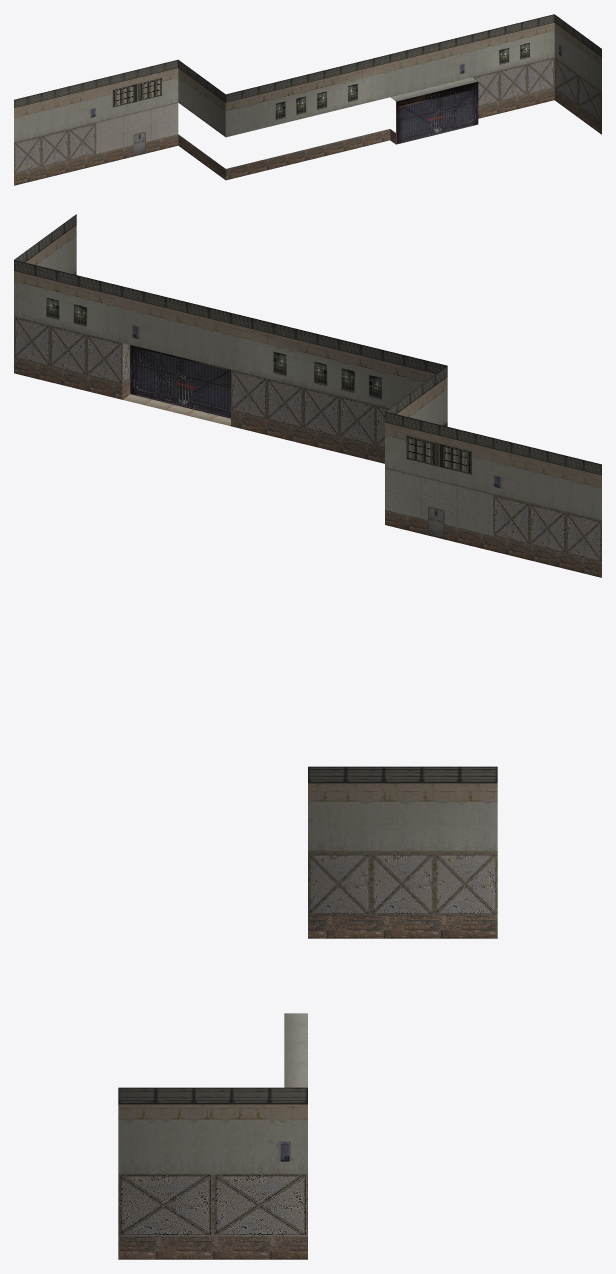
File: M11Z1_TownWall09_A.glb
3 renders of one model, top to bottom at view 1: azimuth 30°, elevation 25°; view 2: azimuth 150°, elevation 25°; view 3: azimuth 270°, elevation 25°, orthographic. The views are drawn at different scales.
Visible parts, largest first — view 1: M11Z1_TOWNWALL09_A; view 2: M11Z1_TOWNWALL09_A; view 3: M11Z1_TOWNWALL09_A.
Boxes of the visible parts, x1,y1,x2,y2 form: M11Z1_TOWNWALL09_A: (14, 14, 601, 185); M11Z1_TOWNWALL09_A: (14, 214, 601, 577); M11Z1_TOWNWALL09_A: (118, 766, 497, 1259).
Bounding box in the file's own units: 48 × 8 × 16.
Materials: 10 (10 with a texture image).
